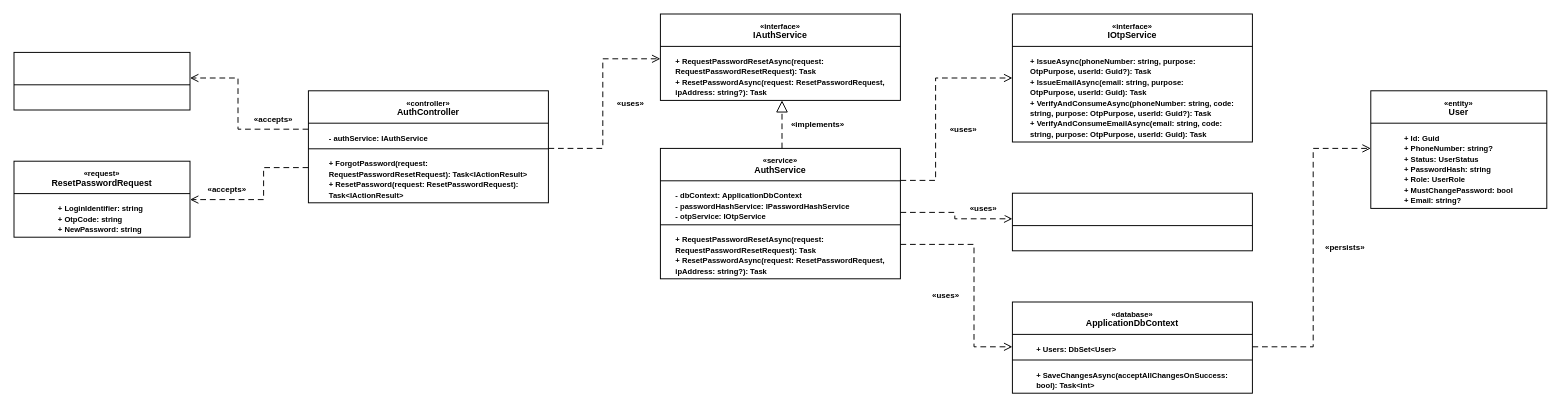
The diagram is 1562 pixels wide and 411 high, and some of its shapes have lost their labels. The shapes that lost their labels are listed below. From the top down, each one's box as (x1, y1, x2, y2) in pixels, then its label:
(13, 52, 190, 110): «request» RequestPasswordResetRequest + LoginIdentifier: string
(1012, 192, 1252, 251): «interface» IPasswordHashService + HashPassword(password: string): string
